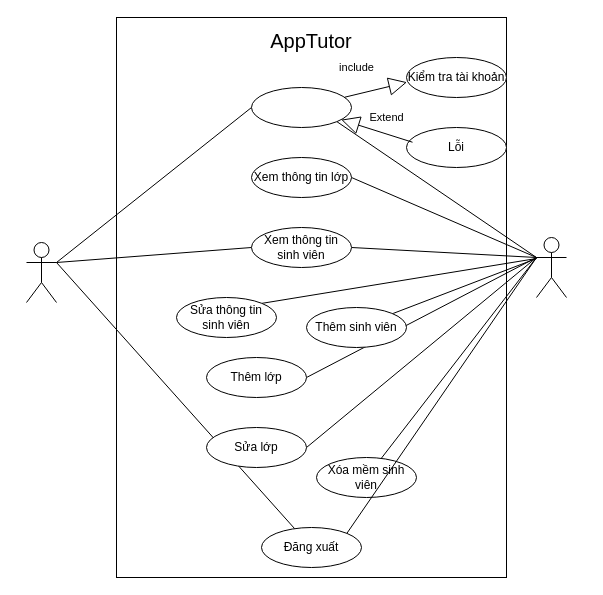
Image size: 603x595. Some labels were removed from this diagram. The box of each missing label's shape, as (x1, y1, x2, y2) in pixels:
Quản trị viên: (536, 236, 566, 298)
Sinh viên: (26, 242, 56, 302)
Đăng nhập: (250, 86, 352, 128)
